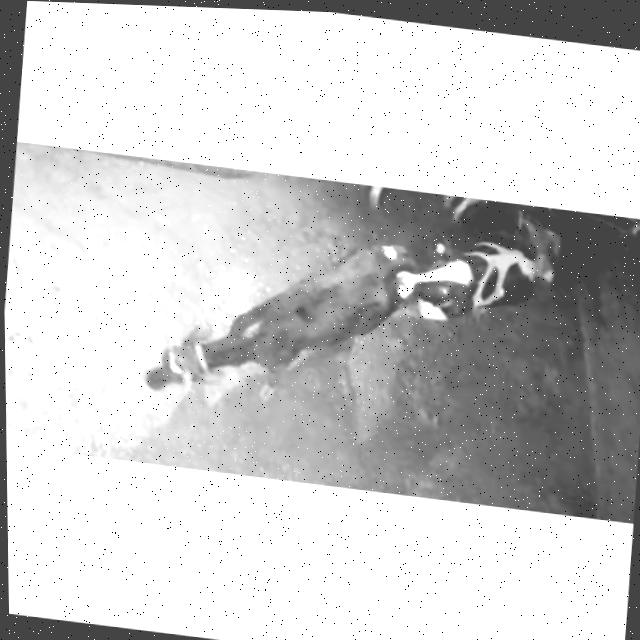propping: (340, 222, 503, 333)
